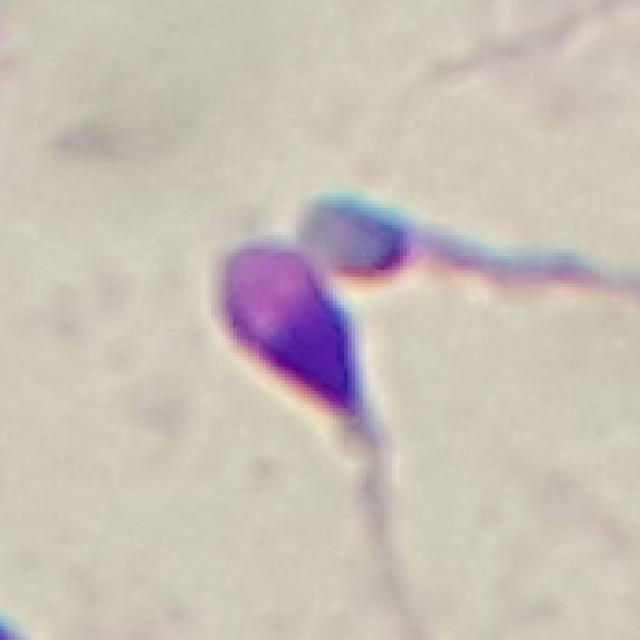normal sperm: (214, 241, 393, 514)
